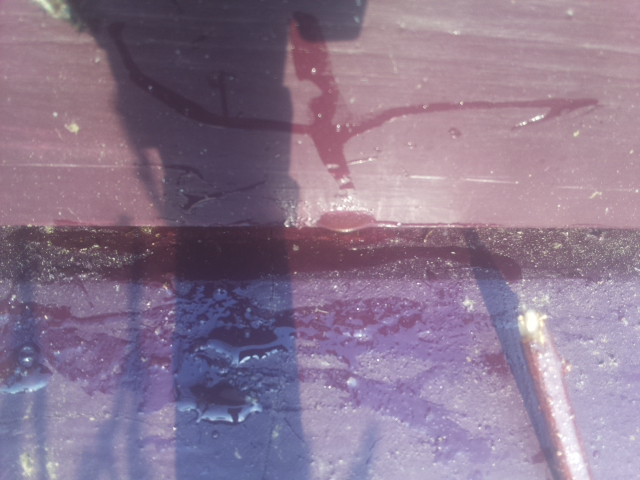ant: (0, 342, 51, 398)
